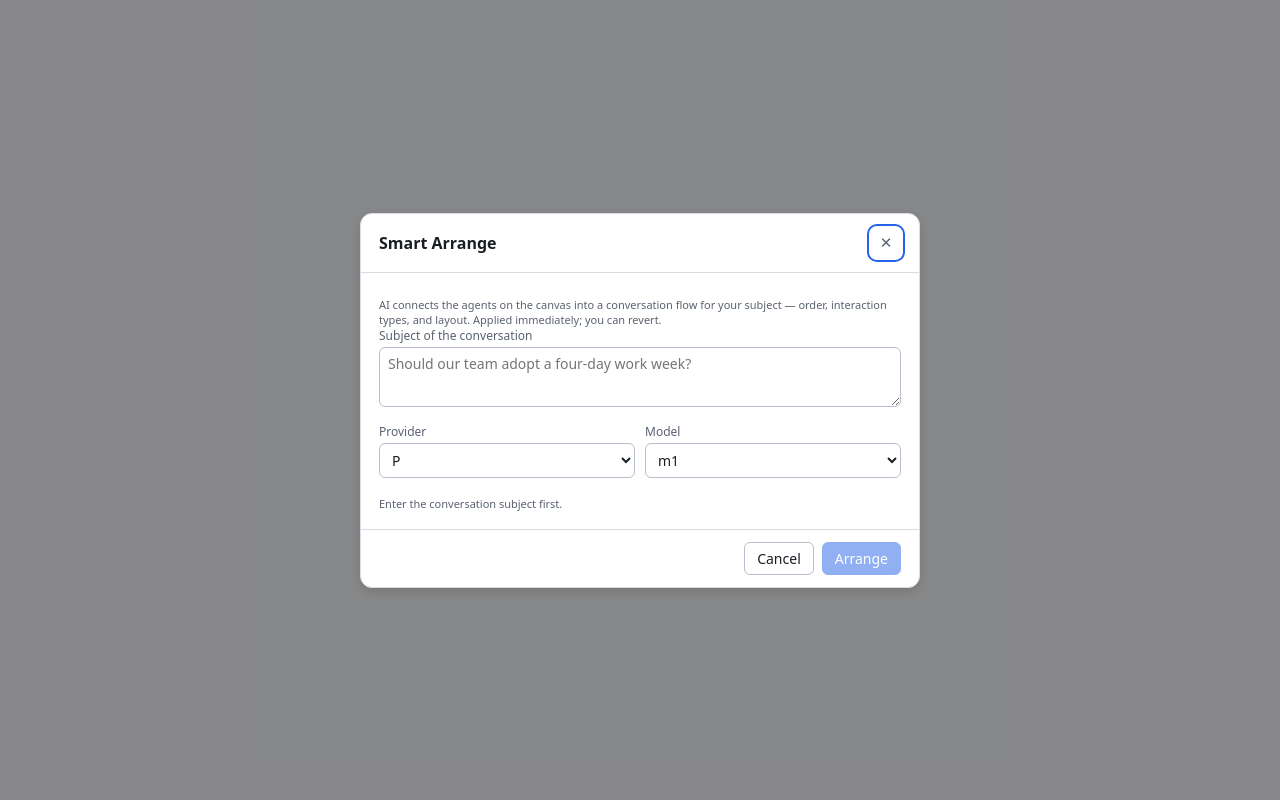
Test: SmartArrangeModal › disables Arrange until a subject is entered
The width and height of the screenshot is (1280, 800).
Expected: the button "Arrange" is disabled, top-left (822, 542), bottom-right (901, 574)
Type "Should we ship?" into the text box labelled "Subject of the conversation" at (640, 376), box top-left (379, 346), bottom-right (901, 406)
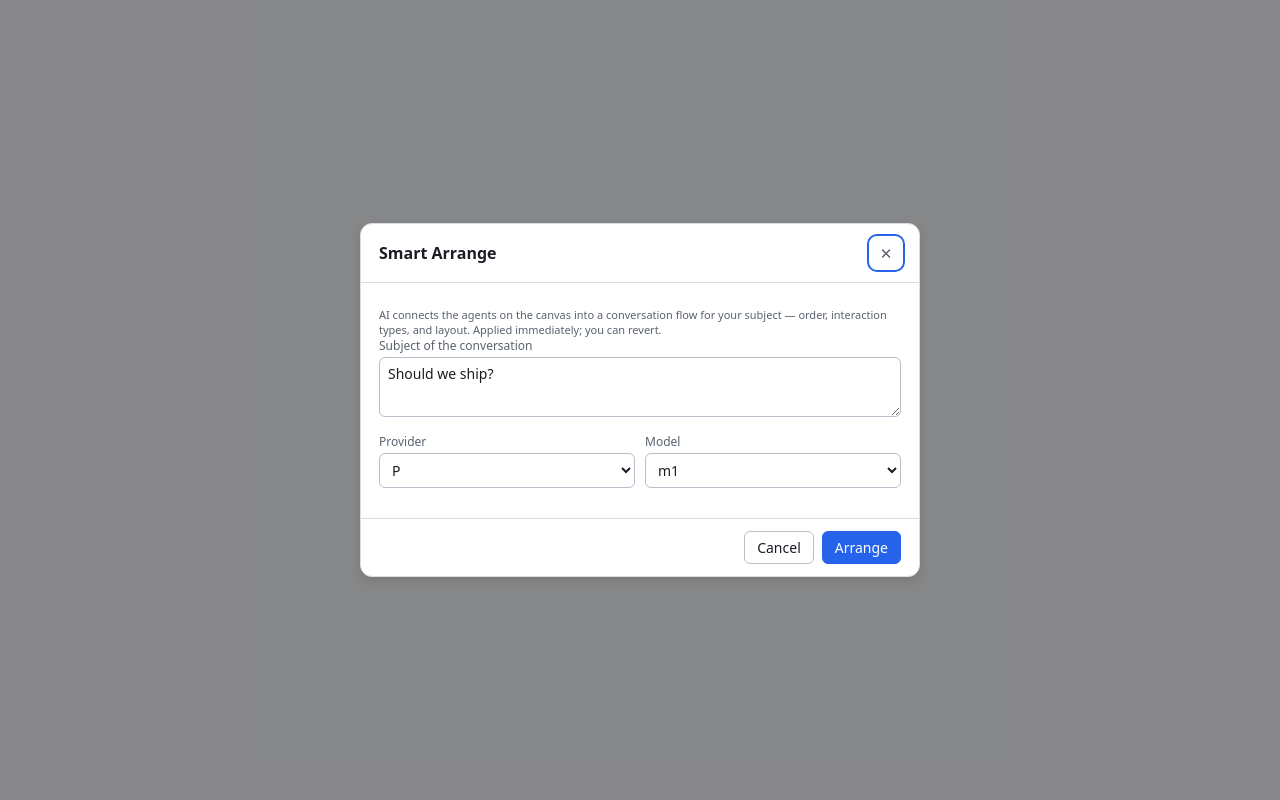
Result: the button "Arrange" is enabled at top-left (822, 531), bottom-right (901, 564)
